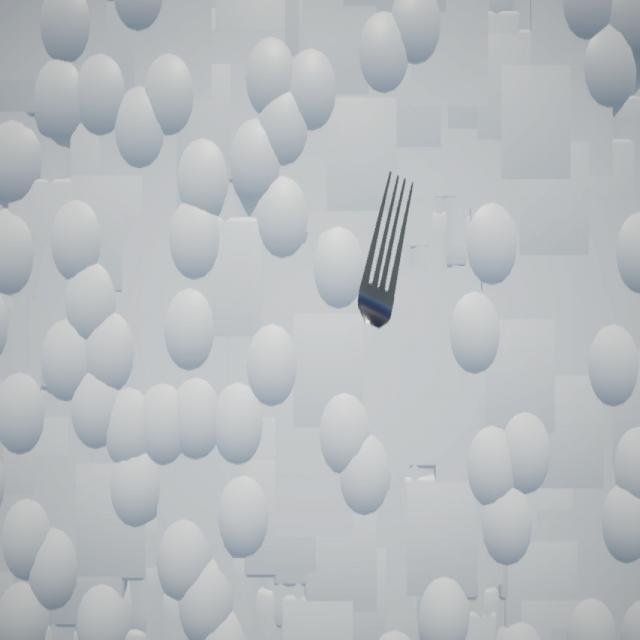top_folk: (358, 173, 415, 330)
